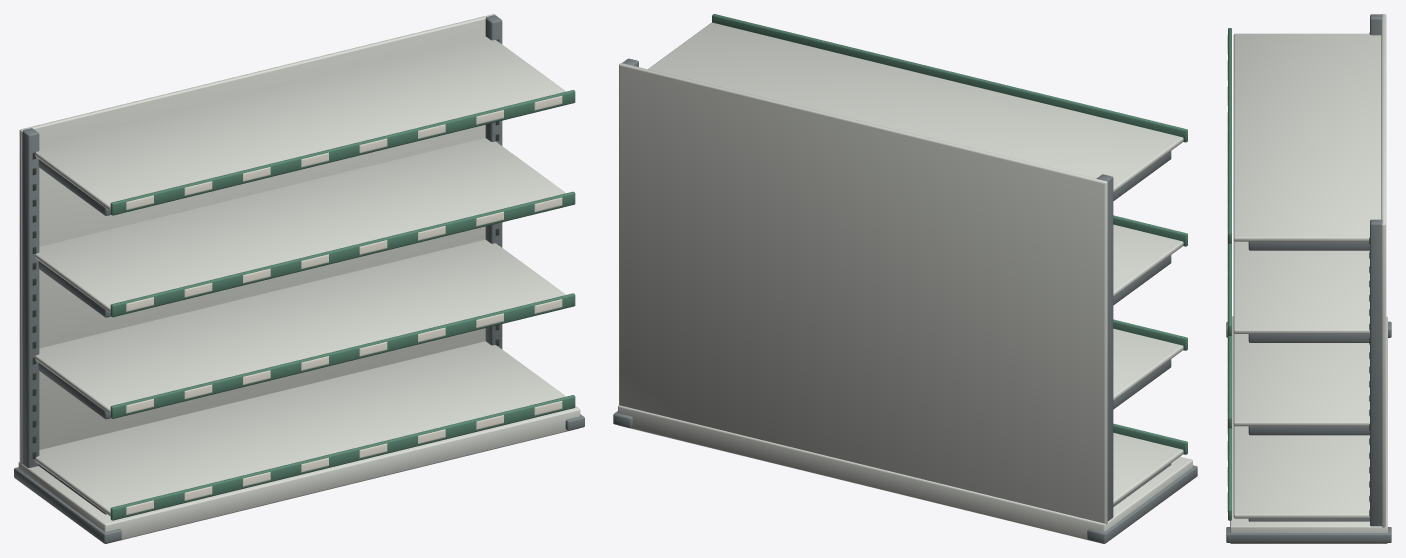
Rendered from shelf.glb.
The picture shows the model from 3 angles, left to right: view 1: azimuth 30°, elevation 25°; view 2: azimuth 150°, elevation 25°; view 3: azimuth 270°, elevation 25°; orthographic projection. The views are drawn at different scales.
Parts seen in each view (by area): view 1: Gondola_01; view 2: Gondola_01; view 3: Gondola_01.
Part boxes in pixels (x1,y1,x2,y2): Gondola_01: [14, 14, 584, 543]; Gondola_01: [613, 14, 1197, 543]; Gondola_01: [1226, 14, 1391, 543].
Size of the model in its own units: 12.13 by 8.5 by 3.98.
